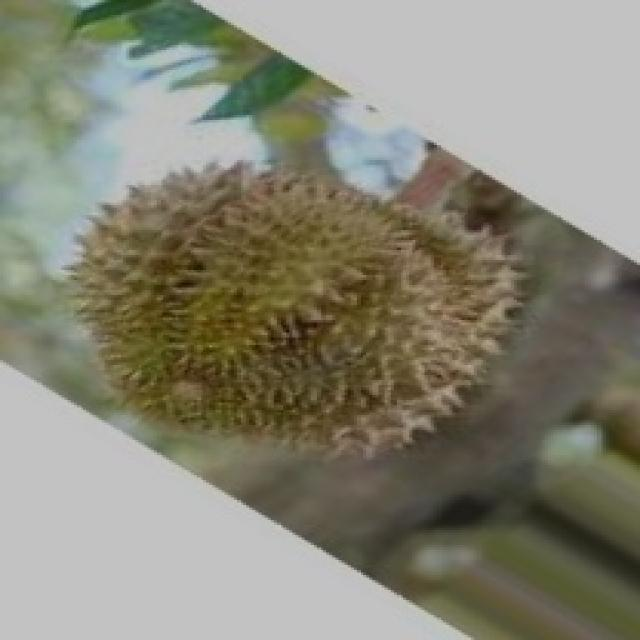fruit: (9, 118, 397, 510)
